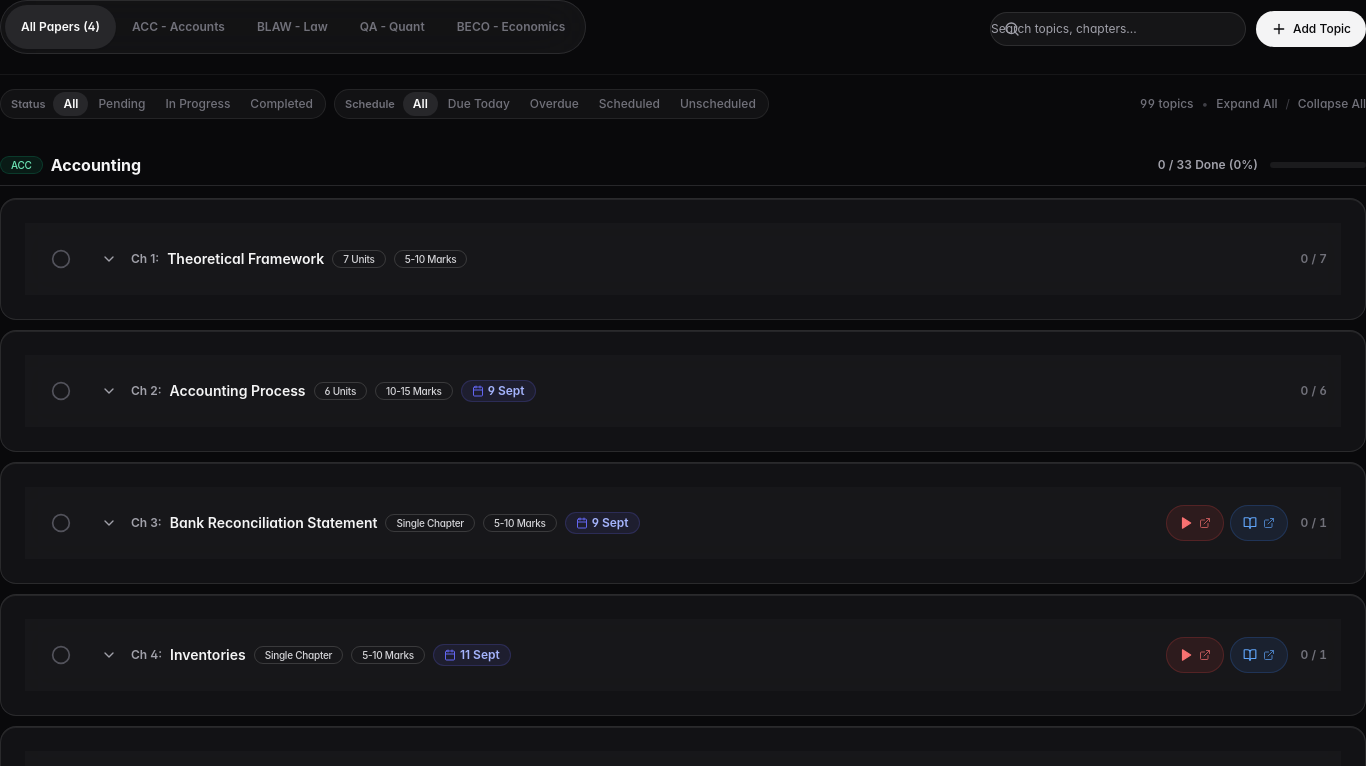
Tier 2 - Boundary 9: Special Regex Search & Contradictory Filter Combos › handles combination of Paper 4 + Completed Status when no topics are completed
Click the button "BECO - Economics" at x=511, y=27, box [441,5,581,49]
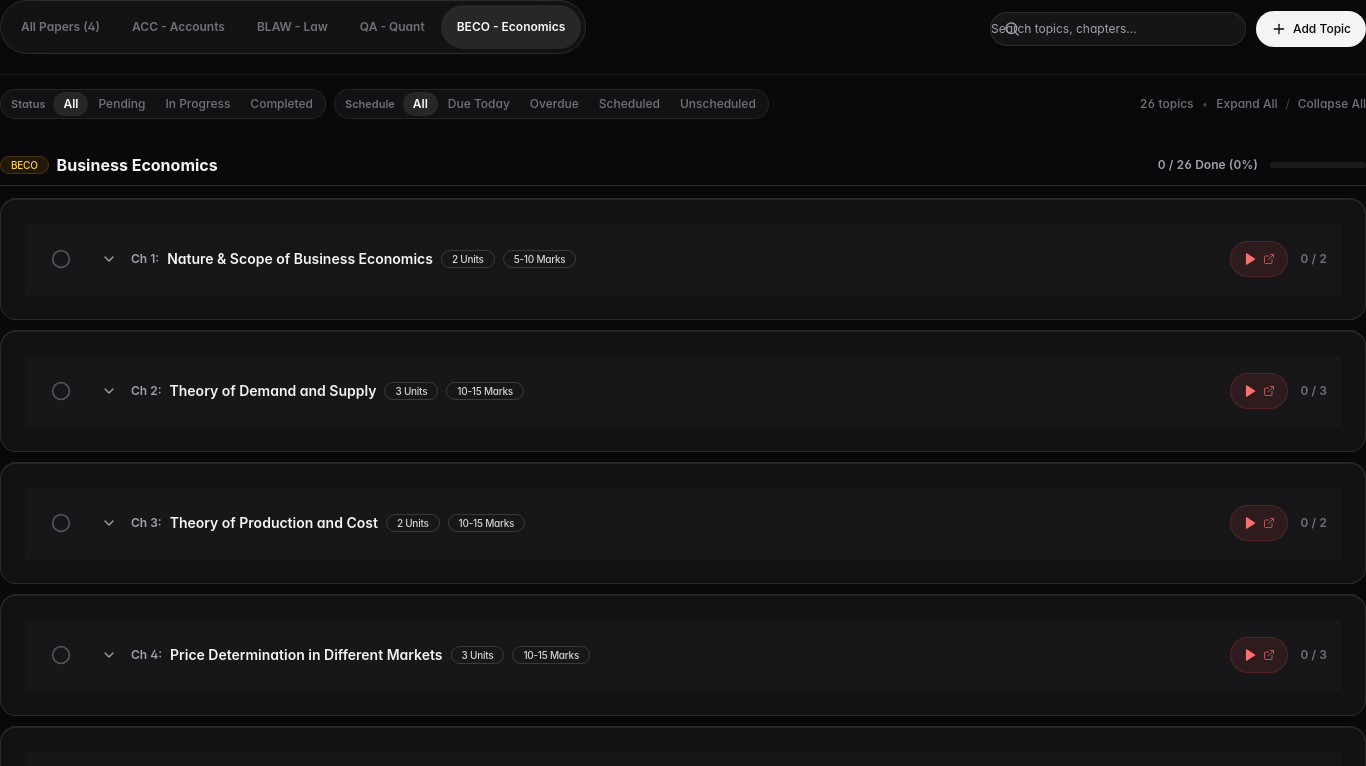
Click the button "Completed" at x=282, y=104, box [240,92,323,116]
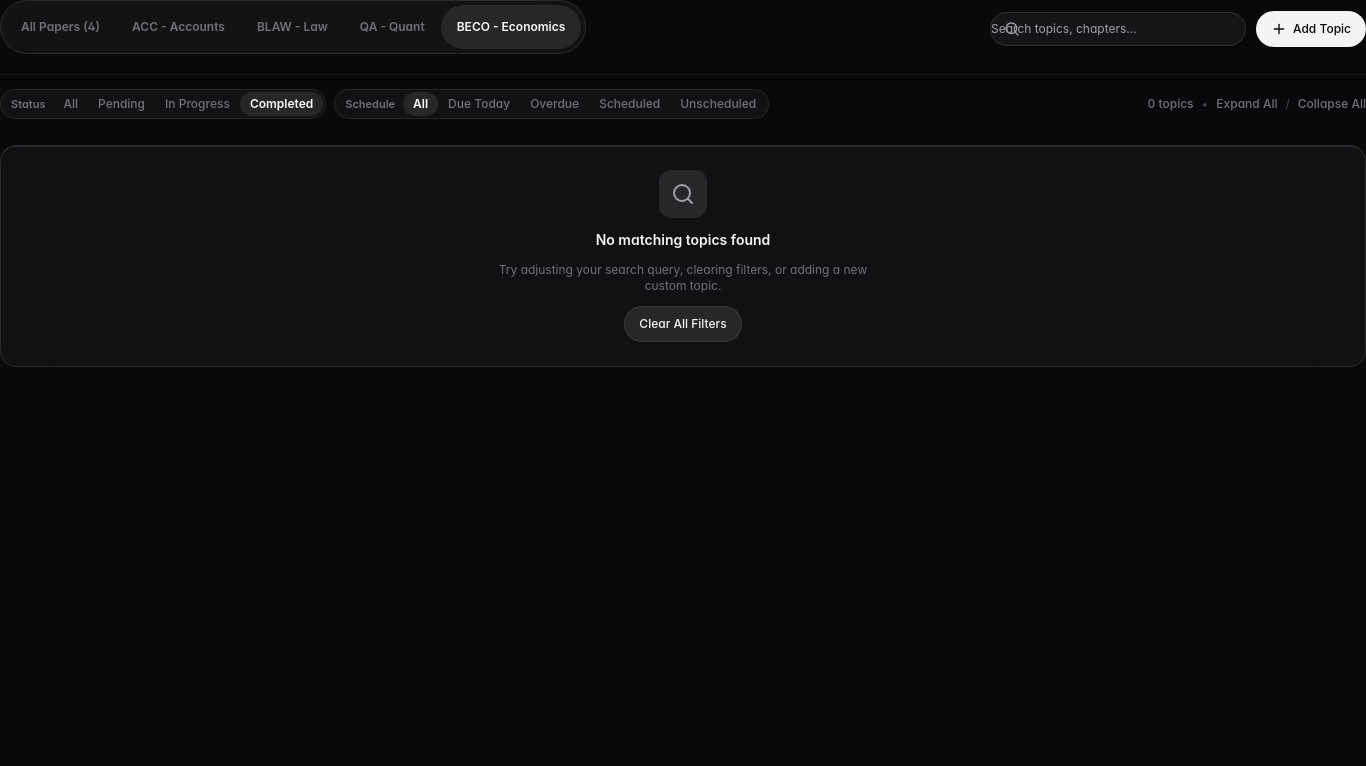
Expected: the heading "No matching topics found" is shown, [596,231,770,248]
